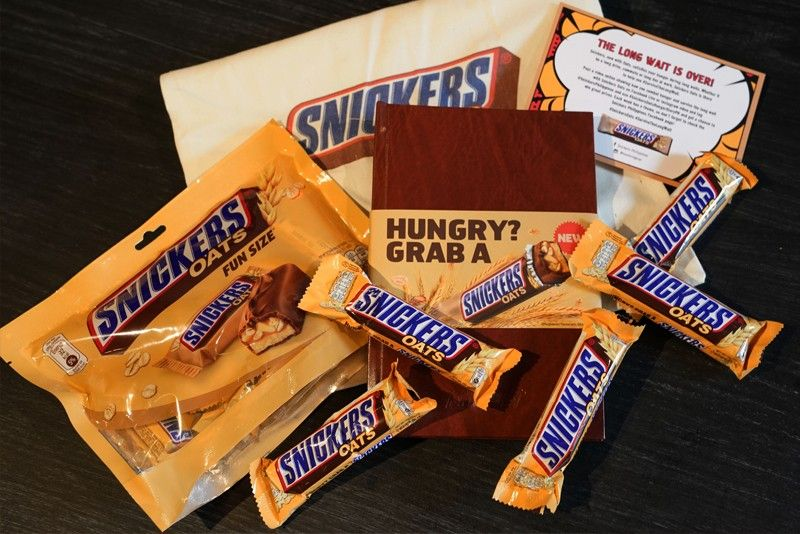snickers: (93, 192, 244, 339), (296, 54, 492, 151), (538, 338, 602, 473), (611, 259, 734, 327), (537, 345, 602, 473), (538, 345, 602, 473), (615, 259, 734, 327), (278, 398, 373, 482), (635, 168, 720, 259), (350, 287, 467, 353), (635, 168, 714, 259), (635, 173, 714, 259), (181, 280, 252, 343), (538, 338, 567, 473), (464, 261, 524, 312), (616, 121, 656, 145)
